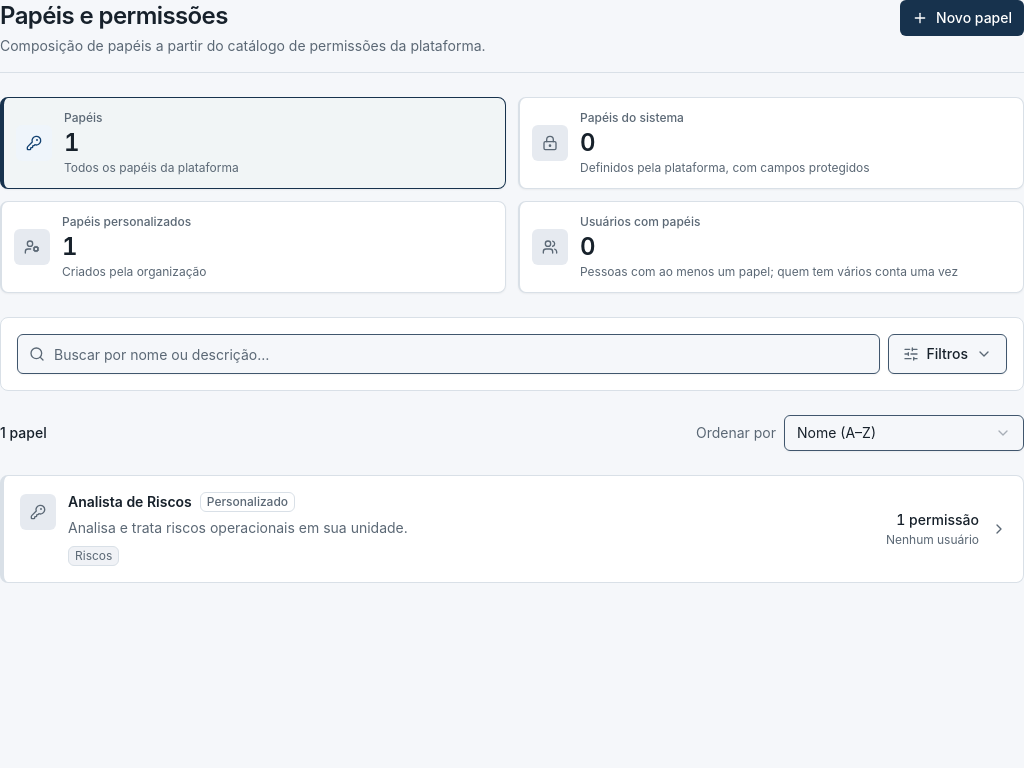
Test: RoleAdminView — creating a role › opens the create panel from "Novo papel", and only then asks for the catalogue
Expected: the text "Analista de Riscos" is shown, [68,492,192,512]
Step 1. Click the button "Novo papel" → (962, 18), box [900,0,1023,36]
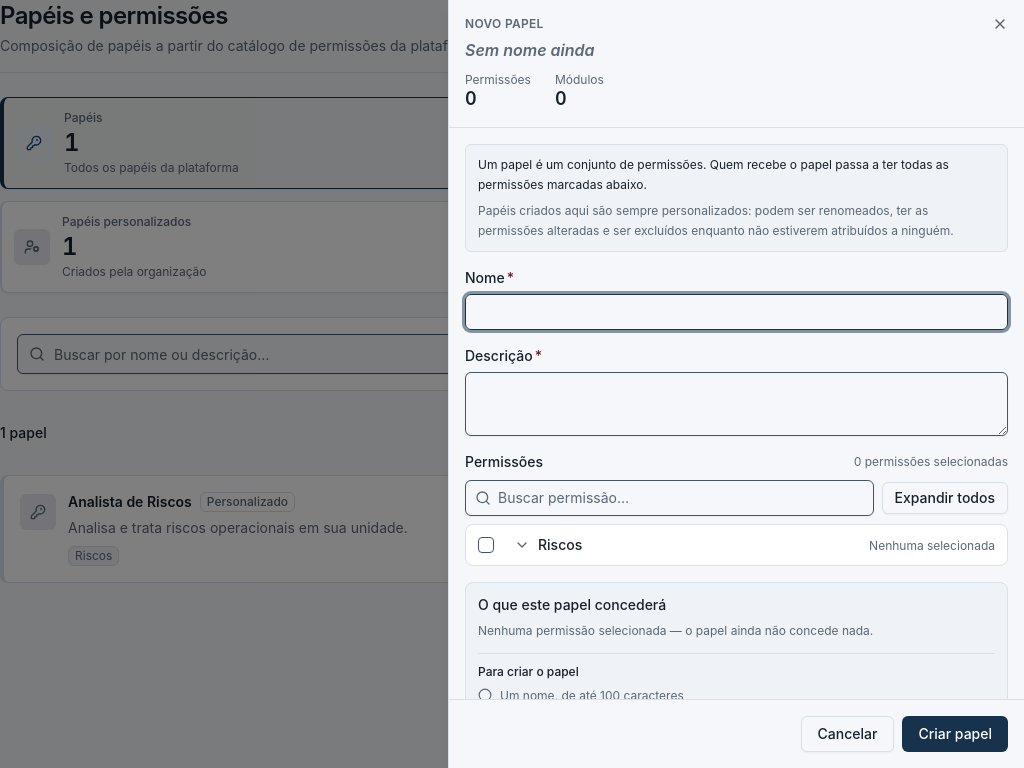
Now the element "Novo papel" is shown, box [449,0,1023,767]
